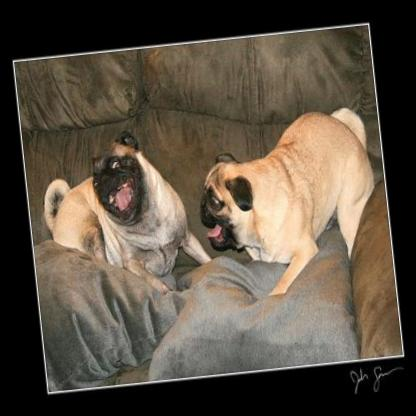pug: (190, 103, 385, 302), (36, 122, 213, 304)
